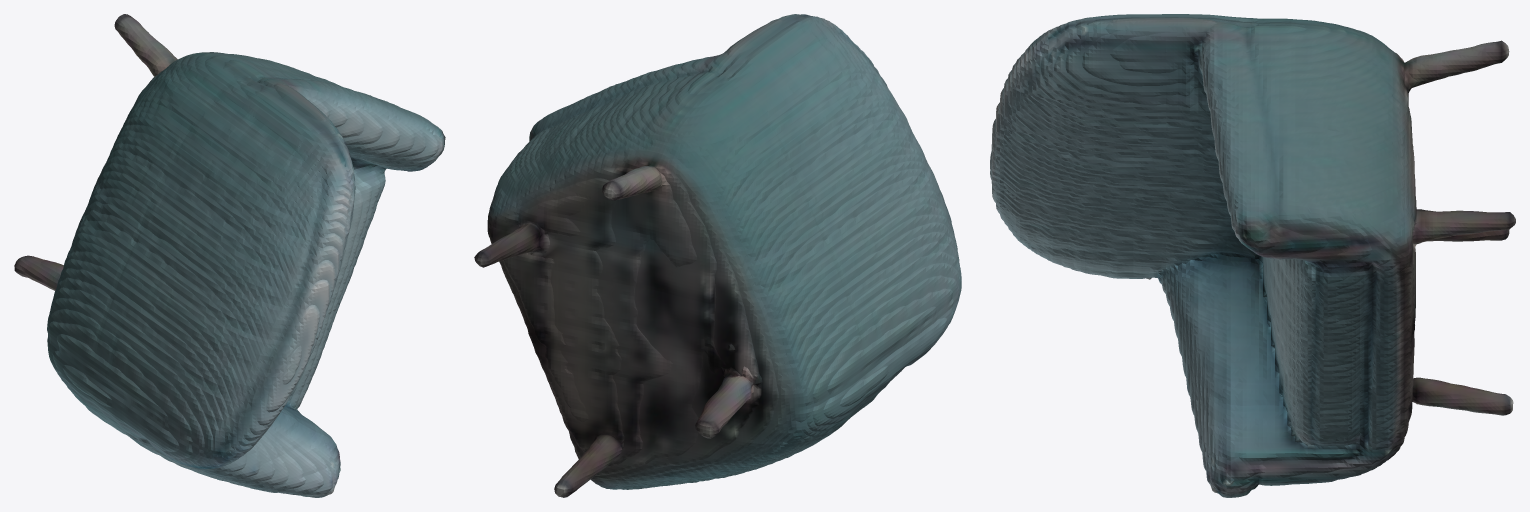
The picture shows the model from 3 angles, left to right: view 1: azimuth 30°, elevation 25°; view 2: azimuth 150°, elevation 25°; view 3: azimuth 270°, elevation 25°; orthographic projection. The views are drawn at different scales.
Parts seen in each view (by area): view 1: world; view 2: world; view 3: world.
Part boxes in pixels (x1,y1,x2,y2): world: (14,14,445,497); world: (474,14,961,497); world: (990,14,1515,497).
Bounding box in the file's own units: 0.7127 × 0.8417 × 0.8867.
